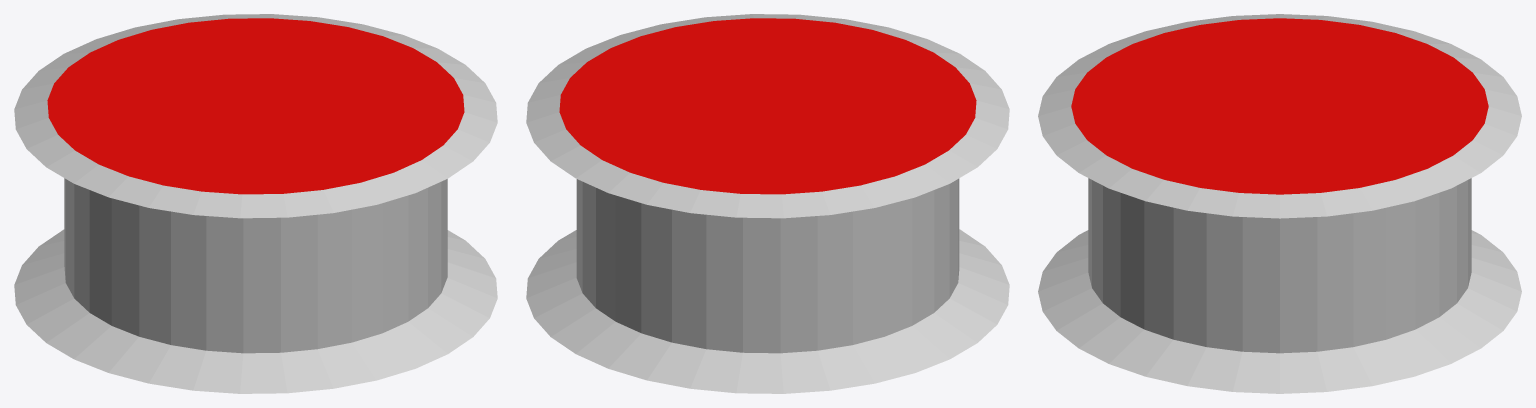
File: Rim.fbx
3 renders of one model, left to right at view 1: azimuth 30°, elevation 25°; view 2: azimuth 150°, elevation 25°; view 3: azimuth 270°, elevation 25°, orthographic.
Visible parts, largest first — view 1: Cylinder; view 2: Cylinder; view 3: Cylinder.
Part boxes in pixels (x1,y1,x2,y2): Cylinder: (14,14,497,393); Cylinder: (526,14,1009,393); Cylinder: (1038,14,1521,393).
Bounding box in the file's own units: 200 × 84.48 × 200.
